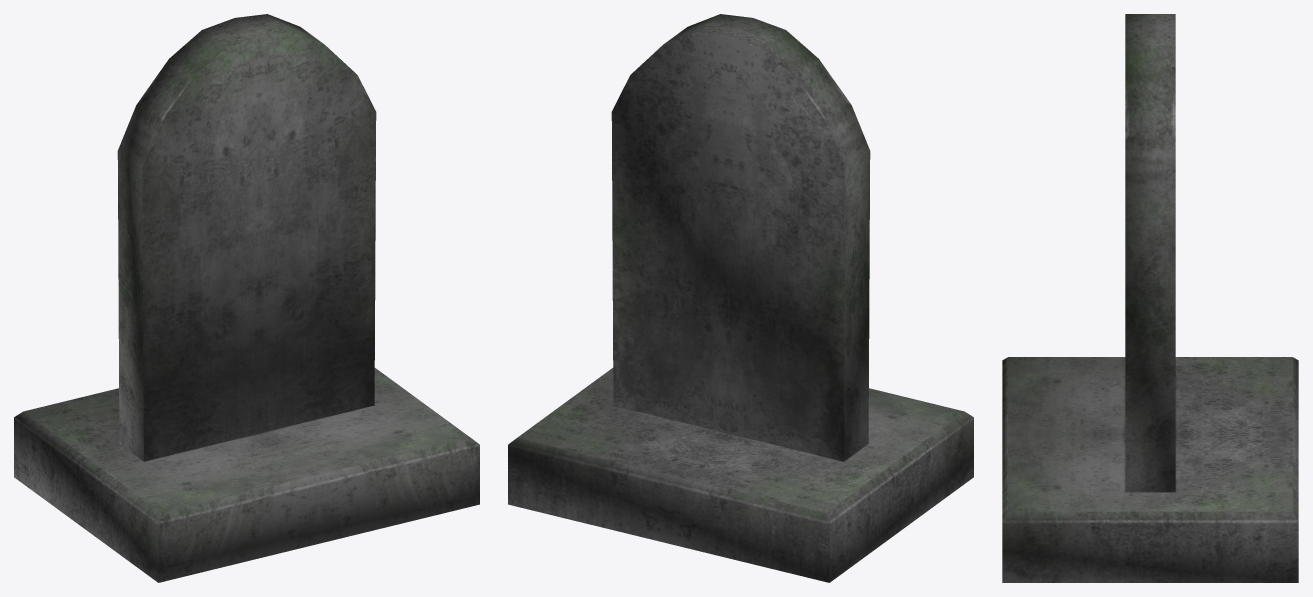
File: gravestone3.glb
3 renders of one model, left to right at view 1: azimuth 30°, elevation 25°; view 2: azimuth 150°, elevation 25°; view 3: azimuth 270°, elevation 25°, orthographic. The views are drawn at different scales.
Parts seen in each view (by area): view 1: defaultMaterial.003; view 2: defaultMaterial.003; view 3: defaultMaterial.003.
Part boxes in pixels (box(x1,y1,x2,y2)): defaultMaterial.003: box(14, 14, 479, 582); defaultMaterial.003: box(508, 14, 973, 582); defaultMaterial.003: box(1002, 14, 1298, 582).
Bounding box in the file's own units: 0.6506 × 0.8973 × 0.5063.
Materials: 1 (1 with a texture image).
